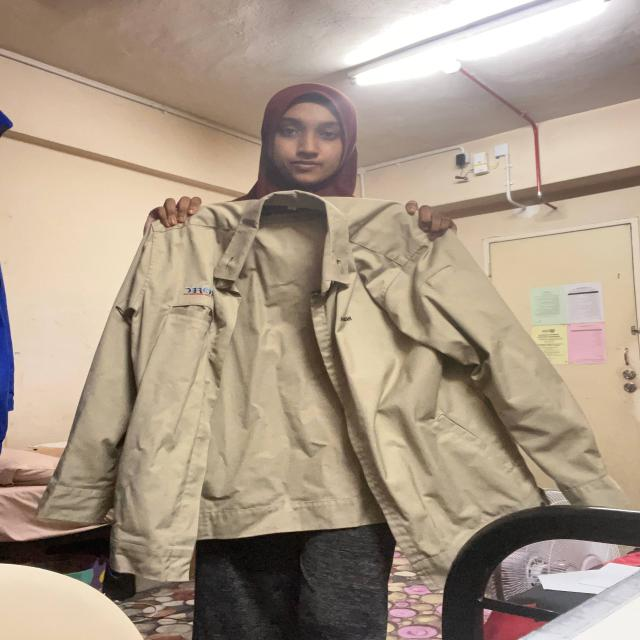person_without_labcoat: (39, 84, 620, 640)
